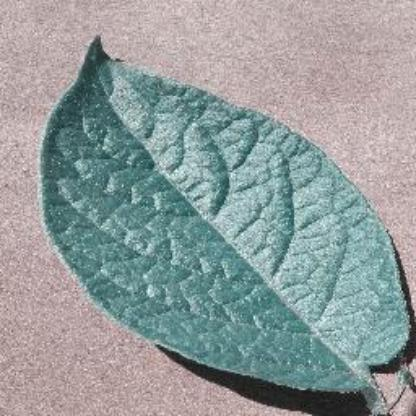Healthy-plant: (21, 17, 414, 416)
